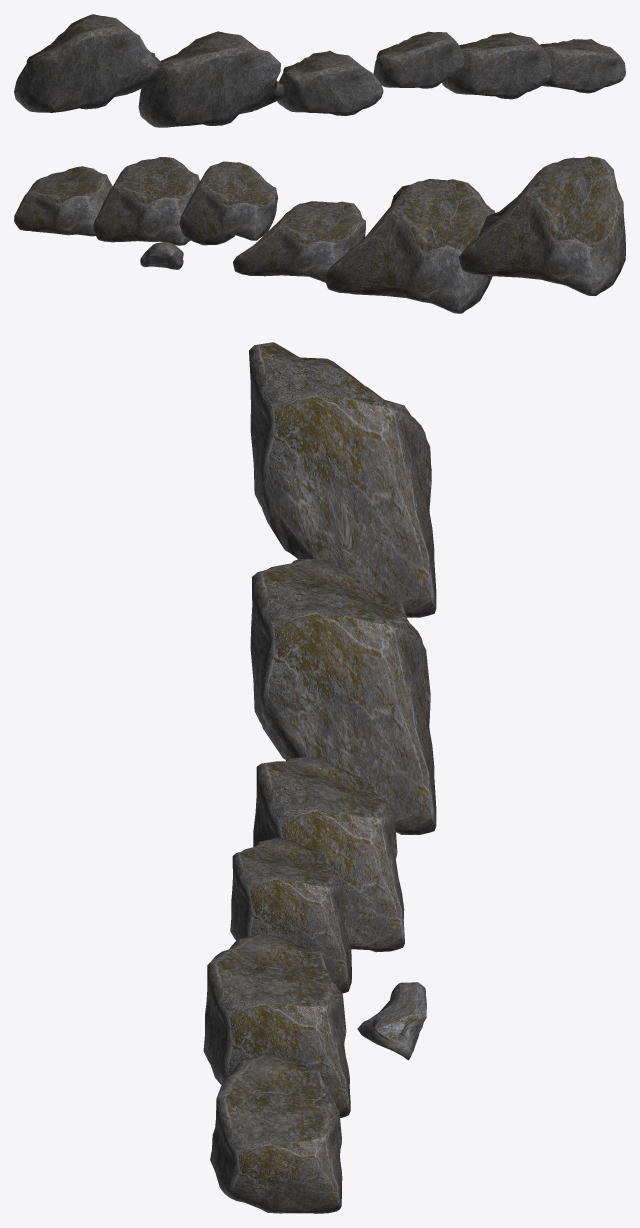
The model's file is BackgroundRocks_H.obj.
3 views of the same model, one above another, from view 1: azimuth 30°, elevation 25°; view 2: azimuth 150°, elevation 25°; view 3: azimuth 270°, elevation 25° (orthographic). The views are drawn at different scales.
Visible parts, largest first — view 1: stone_big_3.013; view 2: stone_big_3.013; view 3: stone_big_3.013.
Boxes of the visible parts, bbox=[...] form: stone_big_3.013: bbox=[14, 14, 625, 127]; stone_big_3.013: bbox=[14, 156, 625, 313]; stone_big_3.013: bbox=[203, 342, 436, 1213].
Size of the model in its own units: 0.4914 by 0.1488 by 0.0871.
